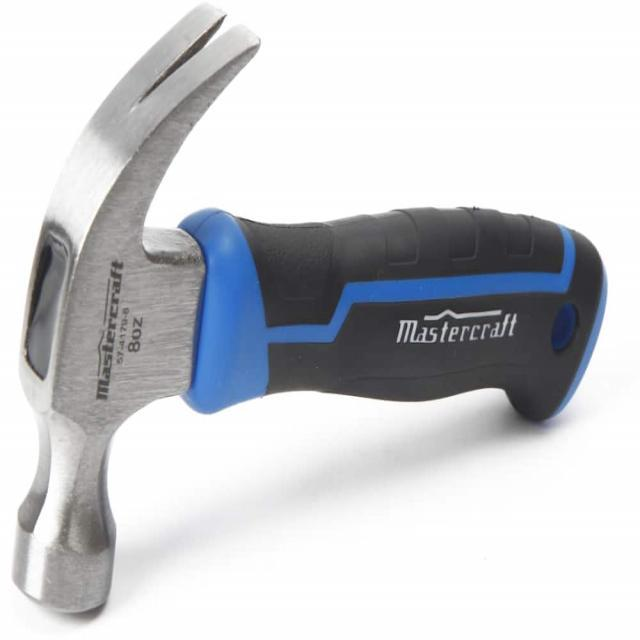hammer: (6, 6, 612, 616)
